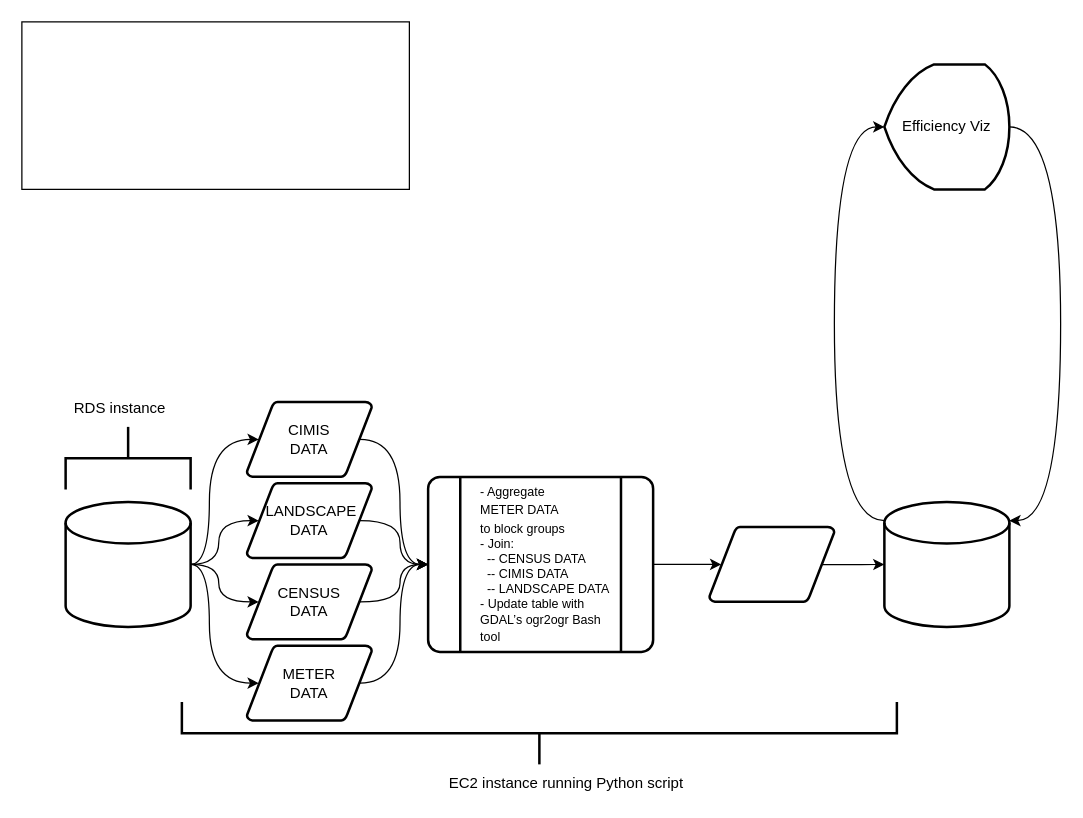
Image size: 1083x818. Some labels were removed from this diagram. Each missing label, with the box of its shape:
CARTO DB: (882, 500, 1010, 628)
Neighborhood-Level Efficiency Explorer Annotated Data Flow Diagram: (21, 21, 409, 189)
NEW VIZ DATA: (708, 525, 835, 602)
SCUBA: (64, 500, 191, 628)
